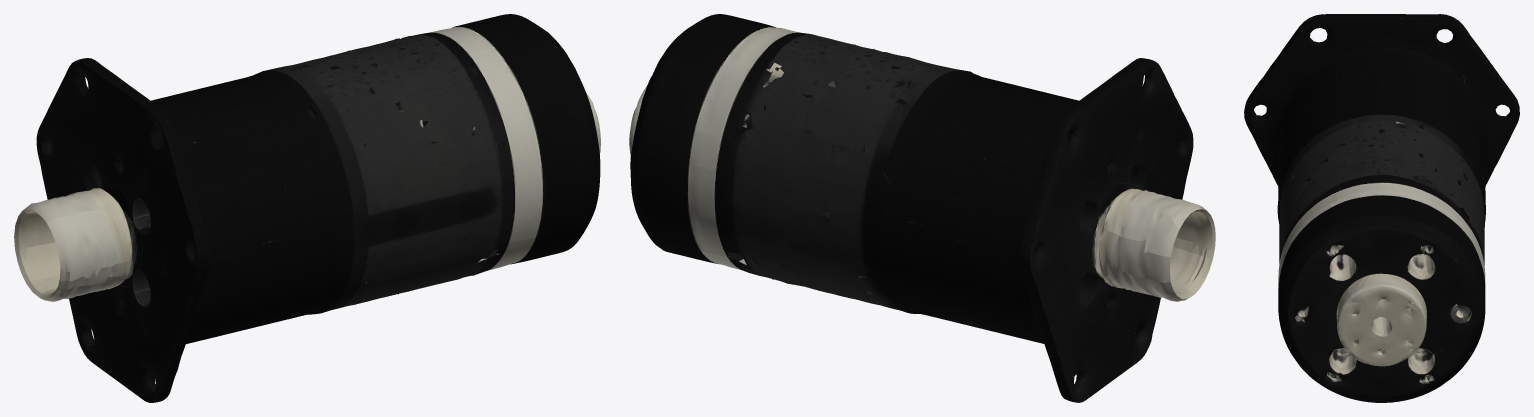
Rendered from maf-sensor.glb.
3 views of the same model, side by side, from view 1: azimuth 30°, elevation 25°; view 2: azimuth 150°, elevation 25°; view 3: azimuth 270°, elevation 25° (orthographic). The views are drawn at different scales.
Size of the model in its own units: 1.9 by 0.992 by 0.9966.
1 material, 1 textured.
